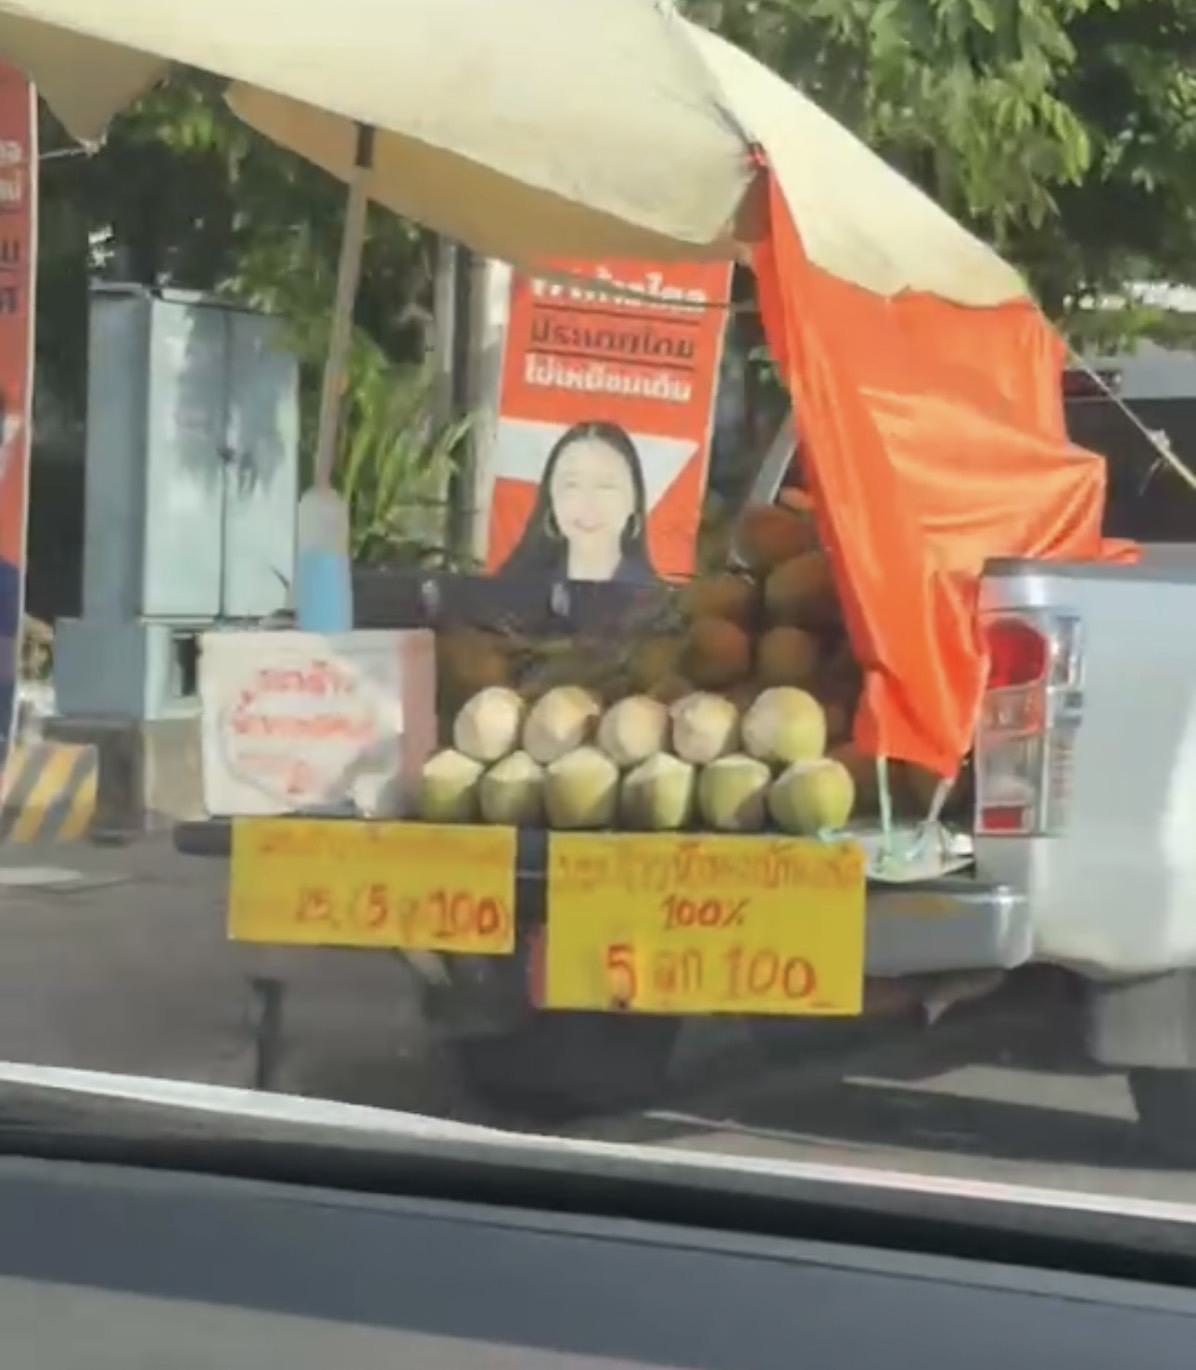Banner: (502, 252, 724, 575)
